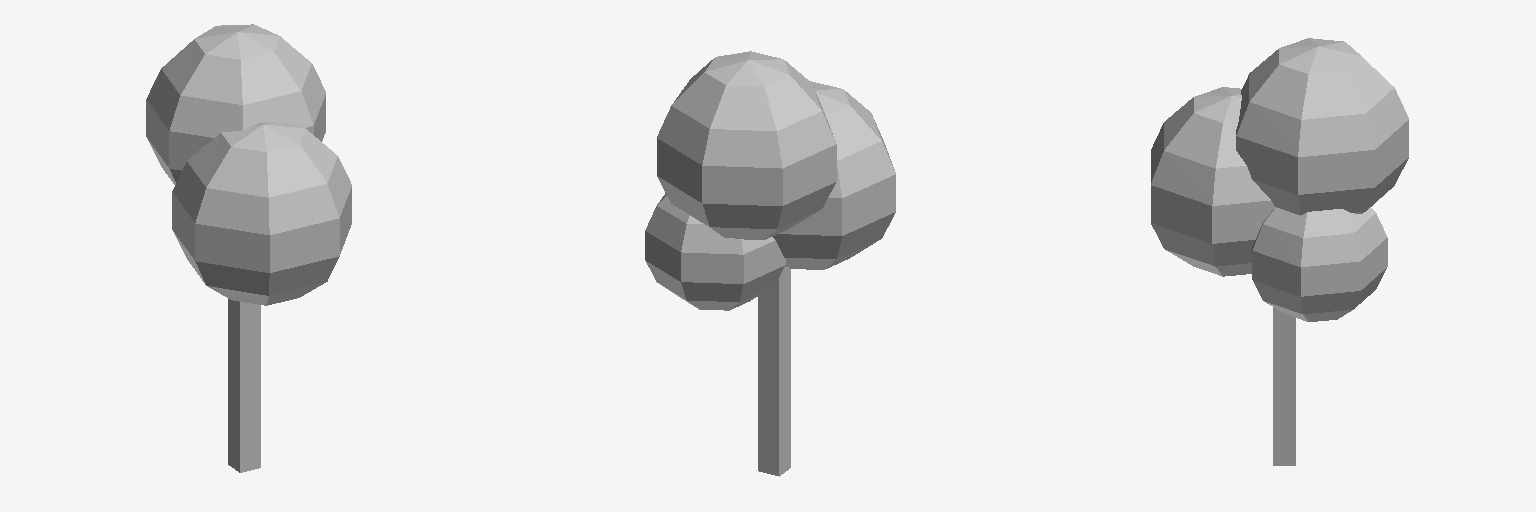
File: tree.obj
3 renders of one model, left to right at view 1: azimuth 30°, elevation 25°; view 2: azimuth 150°, elevation 25°; view 3: azimuth 270°, elevation 25°, orthographic.
Parts seen in each view (by area): view 1: Cube.004; view 2: Cube.004; view 3: Cube.004.
Boxes of the visible parts, box(x1,y1,x2,y2) form: Cube.004: box(146, 24, 351, 472); Cube.004: box(645, 51, 895, 476); Cube.004: box(1151, 38, 1408, 465).
Size of the model in its own units: 18.77 by 39.79 by 22.24.